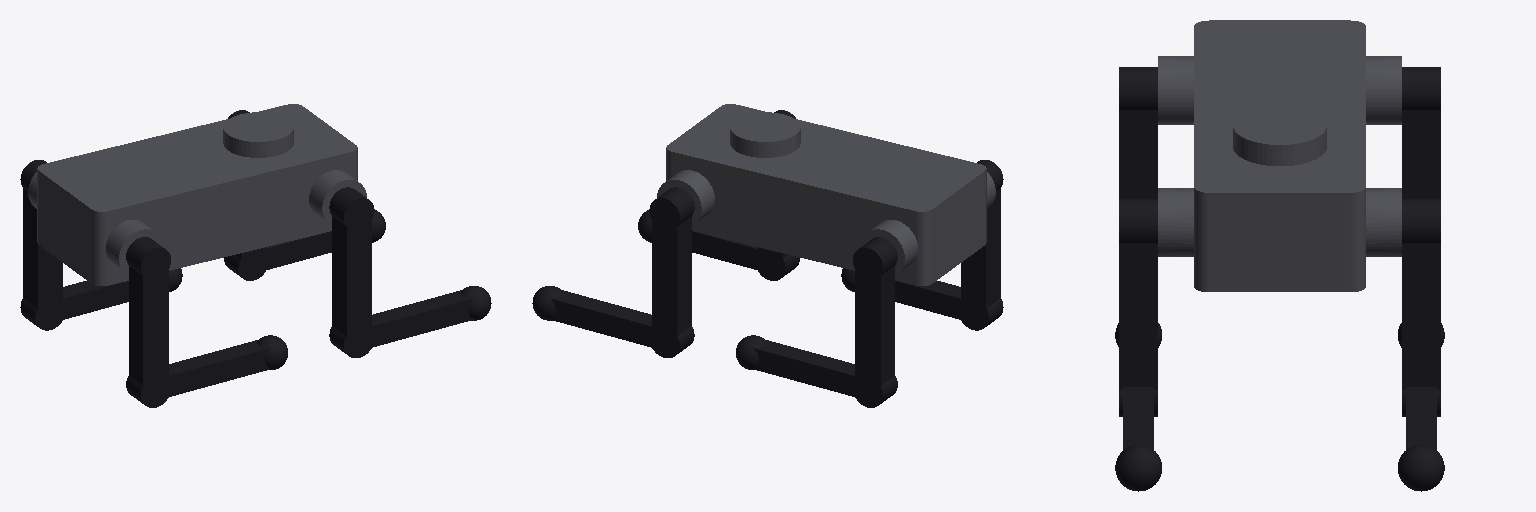
The robot description file, URDF, robot "dog":
<?xml version="1.0"?>
<!-- 8-DOF robot dog. Generated from the Fusion model (DogModel.py).
     Frames: X forward, Y left, Z up. Each leg: thigh_joint (base_link->thigh)
     and calf_joint (thigh->calf), both about Y. Foot sphere is part of calf,
     centred at (0, 0, -0.12) in the calf frame, radius 0.015.
     Standing pose: thigh 0.8128, calf -1.6256 rad -> body centre 0.18 m above ground. -->
<robot name="dog">

  <material name="body_grey"><color rgba="0.35 0.35 0.38 1"/></material>
  <material name="leg_dark"><color rgba="0.15 0.15 0.17 1"/></material>

  <link name="base_link">
    <visual>
      <geometry><mesh filename="package://dog_description/meshes/base_link.stl" scale="0.001 0.001 0.001"/></geometry>
      <material name="body_grey"/>
    </visual>
    <collision>
      <origin xyz="0 0 0" rpy="0 0 0"/>
      <geometry><box size="0.26 0.11 0.07"/></geometry>
    </collision>
    <collision>
      <origin xyz="0.06 0 0.0425" rpy="0 0 0"/>
      <geometry><cylinder radius="0.03" length="0.015"/></geometry>
    </collision>
    <collision>
      <origin xyz="0.1 0.06 0" rpy="1.5708 0 0"/>
      <geometry><cylinder radius="0.022" length="0.035"/></geometry>
    </collision>
    <collision>
      <origin xyz="0.1 -0.06 0" rpy="1.5708 0 0"/>
      <geometry><cylinder radius="0.022" length="0.035"/></geometry>
    </collision>
    <collision>
      <origin xyz="-0.1 0.06 0" rpy="1.5708 0 0"/>
      <geometry><cylinder radius="0.022" length="0.035"/></geometry>
    </collision>
    <collision>
      <origin xyz="-0.1 -0.06 0" rpy="1.5708 0 0"/>
      <geometry><cylinder radius="0.022" length="0.035"/></geometry>
    </collision>
    <inertial>
      <origin xyz="0.00463 0 0.00304" rpy="0 0 0"/>
      <mass value="1.8"/>
      <inertia ixx="2.550000e-03" ixy="0" ixz="0" iyy="1.087500e-02" iyz="0" izz="1.195500e-02"/>
    </inertial>
  </link>

  <!-- FL leg -->
  <joint name="FL_thigh_joint" type="revolute">
    <parent link="base_link"/>
    <child link="FL_thigh"/>
    <origin xyz="0.1 0.09 0" rpy="0 0 0"/>
    <axis xyz="0 1 0"/>
    <limit lower="-1.5" upper="1.5" effort="5" velocity="10"/>
    <dynamics damping="0.05" friction="0.0"/>
  </joint>

  <link name="FL_thigh">
    <visual>
      <geometry><mesh filename="package://dog_description/meshes/thigh.stl" scale="0.001 0.001 0.001"/></geometry>
      <material name="leg_dark"/>
    </visual>
    <collision>
      <origin xyz="0 0 -0.06" rpy="0 0 0"/>
      <geometry><box size="0.025 0.025 0.12"/></geometry>
    </collision>
    <inertial>
      <origin xyz="0 0 -0.06" rpy="0 0 0"/>
      <mass value="0.2"/>
      <inertia ixx="2.504167e-04" ixy="0" ixz="0" iyy="2.504167e-04" iyz="0" izz="2.083333e-05"/>
    </inertial>
  </link>

  <joint name="FL_calf_joint" type="revolute">
    <parent link="FL_thigh"/>
    <child link="FL_calf"/>
    <origin xyz="0 0 -0.12" rpy="0 0 0"/>
    <axis xyz="0 1 0"/>
    <limit lower="-2.6" upper="-0.6" effort="5" velocity="10"/>
    <dynamics damping="0.05" friction="0.0"/>
  </joint>

  <link name="FL_calf">
    <visual>
      <geometry><mesh filename="package://dog_description/meshes/calf.stl" scale="0.001 0.001 0.001"/></geometry>
      <material name="leg_dark"/>
    </visual>
    <collision>
      <origin xyz="0 0 -0.06" rpy="0 0 0"/>
      <geometry><box size="0.02 0.02 0.12"/></geometry>
    </collision>
    <collision>
      <origin xyz="0 0 -0.12" rpy="0 0 0"/>
      <geometry><sphere radius="0.015"/></geometry>
    </collision>
    <inertial>
      <origin xyz="0 0 -0.06428" rpy="0 0 0"/>
      <mass value="0.12"/>
      <inertia ixx="1.862500e-04" ixy="0" ixz="0" iyy="1.862500e-04" iyz="0" izz="8.000000e-06"/>
    </inertial>
  </link>

  <!-- FR leg -->
  <joint name="FR_thigh_joint" type="revolute">
    <parent link="base_link"/>
    <child link="FR_thigh"/>
    <origin xyz="0.1 -0.09 0" rpy="0 0 0"/>
    <axis xyz="0 1 0"/>
    <limit lower="-1.5" upper="1.5" effort="5" velocity="10"/>
    <dynamics damping="0.05" friction="0.0"/>
  </joint>

  <link name="FR_thigh">
    <visual>
      <geometry><mesh filename="package://dog_description/meshes/thigh.stl" scale="0.001 0.001 0.001"/></geometry>
      <material name="leg_dark"/>
    </visual>
    <collision>
      <origin xyz="0 0 -0.06" rpy="0 0 0"/>
      <geometry><box size="0.025 0.025 0.12"/></geometry>
    </collision>
    <inertial>
      <origin xyz="0 0 -0.06" rpy="0 0 0"/>
      <mass value="0.2"/>
      <inertia ixx="2.504167e-04" ixy="0" ixz="0" iyy="2.504167e-04" iyz="0" izz="2.083333e-05"/>
    </inertial>
  </link>

  <joint name="FR_calf_joint" type="revolute">
    <parent link="FR_thigh"/>
    <child link="FR_calf"/>
    <origin xyz="0 0 -0.12" rpy="0 0 0"/>
    <axis xyz="0 1 0"/>
    <limit lower="-2.6" upper="-0.6" effort="5" velocity="10"/>
    <dynamics damping="0.05" friction="0.0"/>
  </joint>

  <link name="FR_calf">
    <visual>
      <geometry><mesh filename="package://dog_description/meshes/calf.stl" scale="0.001 0.001 0.001"/></geometry>
      <material name="leg_dark"/>
    </visual>
    <collision>
      <origin xyz="0 0 -0.06" rpy="0 0 0"/>
      <geometry><box size="0.02 0.02 0.12"/></geometry>
    </collision>
    <collision>
      <origin xyz="0 0 -0.12" rpy="0 0 0"/>
      <geometry><sphere radius="0.015"/></geometry>
    </collision>
    <inertial>
      <origin xyz="0 0 -0.06428" rpy="0 0 0"/>
      <mass value="0.12"/>
      <inertia ixx="1.862500e-04" ixy="0" ixz="0" iyy="1.862500e-04" iyz="0" izz="8.000000e-06"/>
    </inertial>
  </link>

  <!-- RL leg -->
  <joint name="RL_thigh_joint" type="revolute">
    <parent link="base_link"/>
    <child link="RL_thigh"/>
    <origin xyz="-0.1 0.09 0" rpy="0 0 0"/>
    <axis xyz="0 1 0"/>
    <limit lower="-1.5" upper="1.5" effort="5" velocity="10"/>
    <dynamics damping="0.05" friction="0.0"/>
  </joint>

  <link name="RL_thigh">
    <visual>
      <geometry><mesh filename="package://dog_description/meshes/thigh.stl" scale="0.001 0.001 0.001"/></geometry>
      <material name="leg_dark"/>
    </visual>
    <collision>
      <origin xyz="0 0 -0.06" rpy="0 0 0"/>
      <geometry><box size="0.025 0.025 0.12"/></geometry>
    </collision>
    <inertial>
      <origin xyz="0 0 -0.06" rpy="0 0 0"/>
      <mass value="0.2"/>
      <inertia ixx="2.504167e-04" ixy="0" ixz="0" iyy="2.504167e-04" iyz="0" izz="2.083333e-05"/>
    </inertial>
  </link>

  <joint name="RL_calf_joint" type="revolute">
    <parent link="RL_thigh"/>
    <child link="RL_calf"/>
    <origin xyz="0 0 -0.12" rpy="0 0 0"/>
    <axis xyz="0 1 0"/>
    <limit lower="-2.6" upper="-0.6" effort="5" velocity="10"/>
    <dynamics damping="0.05" friction="0.0"/>
  </joint>

  <link name="RL_calf">
    <visual>
      <geometry><mesh filename="package://dog_description/meshes/calf.stl" scale="0.001 0.001 0.001"/></geometry>
      <material name="leg_dark"/>
    </visual>
    <collision>
      <origin xyz="0 0 -0.06" rpy="0 0 0"/>
      <geometry><box size="0.02 0.02 0.12"/></geometry>
    </collision>
    <collision>
      <origin xyz="0 0 -0.12" rpy="0 0 0"/>
      <geometry><sphere radius="0.015"/></geometry>
    </collision>
    <inertial>
      <origin xyz="0 0 -0.06428" rpy="0 0 0"/>
      <mass value="0.12"/>
      <inertia ixx="1.862500e-04" ixy="0" ixz="0" iyy="1.862500e-04" iyz="0" izz="8.000000e-06"/>
    </inertial>
  </link>

  <!-- RR leg -->
  <joint name="RR_thigh_joint" type="revolute">
    <parent link="base_link"/>
    <child link="RR_thigh"/>
    <origin xyz="-0.1 -0.09 0" rpy="0 0 0"/>
    <axis xyz="0 1 0"/>
    <limit lower="-1.5" upper="1.5" effort="5" velocity="10"/>
    <dynamics damping="0.05" friction="0.0"/>
  </joint>

  <link name="RR_thigh">
    <visual>
      <geometry><mesh filename="package://dog_description/meshes/thigh.stl" scale="0.001 0.001 0.001"/></geometry>
      <material name="leg_dark"/>
    </visual>
    <collision>
      <origin xyz="0 0 -0.06" rpy="0 0 0"/>
      <geometry><box size="0.025 0.025 0.12"/></geometry>
    </collision>
    <inertial>
      <origin xyz="0 0 -0.06" rpy="0 0 0"/>
      <mass value="0.2"/>
      <inertia ixx="2.504167e-04" ixy="0" ixz="0" iyy="2.504167e-04" iyz="0" izz="2.083333e-05"/>
    </inertial>
  </link>

  <joint name="RR_calf_joint" type="revolute">
    <parent link="RR_thigh"/>
    <child link="RR_calf"/>
    <origin xyz="0 0 -0.12" rpy="0 0 0"/>
    <axis xyz="0 1 0"/>
    <limit lower="-2.6" upper="-0.6" effort="5" velocity="10"/>
    <dynamics damping="0.05" friction="0.0"/>
  </joint>

  <link name="RR_calf">
    <visual>
      <geometry><mesh filename="package://dog_description/meshes/calf.stl" scale="0.001 0.001 0.001"/></geometry>
      <material name="leg_dark"/>
    </visual>
    <collision>
      <origin xyz="0 0 -0.06" rpy="0 0 0"/>
      <geometry><box size="0.02 0.02 0.12"/></geometry>
    </collision>
    <collision>
      <origin xyz="0 0 -0.12" rpy="0 0 0"/>
      <geometry><sphere radius="0.015"/></geometry>
    </collision>
    <inertial>
      <origin xyz="0 0 -0.06428" rpy="0 0 0"/>
      <mass value="0.12"/>
      <inertia ixx="1.862500e-04" ixy="0" ixz="0" iyy="1.862500e-04" iyz="0" izz="8.000000e-06"/>
    </inertial>
  </link>

  <!-- sensor frames (no geometry) -->
  <joint name="lidar_joint" type="fixed">
    <parent link="base_link"/>
    <child link="lidar_link"/>
    <origin xyz="0.06 0 0.05" rpy="0 0 0"/>
  </joint>

  <link name="lidar_link"/>

  <joint name="imu_joint" type="fixed">
    <parent link="base_link"/>
    <child link="imu_link"/>
    <origin xyz="0 0 -0.027" rpy="0 0 0"/>
  </joint>

  <link name="imu_link"/>

</robot>

--- Render facts (derived) ---
3 views of the same robot in one strip: view 1: azimuth 30°, elevation 25°; view 2: azimuth 150°, elevation 25°; view 3: azimuth 270°, elevation 25° (orthographic).
Model dog with 11 links and 10 joints (8 revolute, 2 fixed), rooted at base_link, posed all joints at 0 but 4 set to mid-range because 0 is outside their limits (FL_calf_joint = -1.6, FR_calf_joint = -1.6, RL_calf_joint = -1.6, RR_calf_joint = -1.6).
Visible links, largest first — view 1: base_link, RR_thigh, FR_thigh, RL_thigh, FR_calf, RR_calf, RL_calf, FL_calf, FL_thigh; view 2: base_link, RL_thigh, FL_thigh, RR_thigh, FL_calf, RL_calf, RR_calf, FR_calf, FR_thigh; view 3: base_link, FL_thigh, FR_thigh, RL_thigh, RR_thigh, FL_calf, FR_calf.
Boxes of the visible links, left/top/right/bottom form: base_link: left=28, top=104, right=366, bottom=285; RR_thigh: left=126, top=237, right=170, bottom=407; FR_thigh: left=329, top=187, right=374, bottom=357; RL_thigh: left=20, top=160, right=65, bottom=330; FR_calf: left=372, top=286, right=491, bottom=347; RR_calf: left=169, top=335, right=287, bottom=396; RL_calf: left=63, top=268, right=182, bottom=319; FL_calf: left=266, top=210, right=385, bottom=269; FL_thigh: left=224, top=110, right=268, bottom=280; base_link: left=657, top=104, right=995, bottom=285; RL_thigh: left=853, top=237, right=897, bottom=407; FL_thigh: left=649, top=187, right=694, bottom=357; RR_thigh: left=958, top=160, right=1003, bottom=330; FL_calf: left=532, top=286, right=651, bottom=347; RL_calf: left=736, top=335, right=854, bottom=396; RR_calf: left=841, top=268, right=960, bottom=319; FR_calf: left=638, top=210, right=757, bottom=269; FR_thigh: left=755, top=110, right=799, bottom=280; base_link: left=1158, top=20, right=1401, bottom=291; FL_thigh: left=1402, top=199, right=1440, bottom=416; FR_thigh: left=1119, top=199, right=1157, bottom=416; RL_thigh: left=1402, top=67, right=1440, bottom=198; RR_thigh: left=1119, top=67, right=1157, bottom=198; FL_calf: left=1398, top=387, right=1444, bottom=491; FR_calf: left=1115, top=387, right=1161, bottom=491.
Size in the robot's own frame: 0.3649 by 0.21 by 0.185 metres.
Meshes: 3 distinct files referenced, 9 mesh visuals loaded (3 binary STL).
